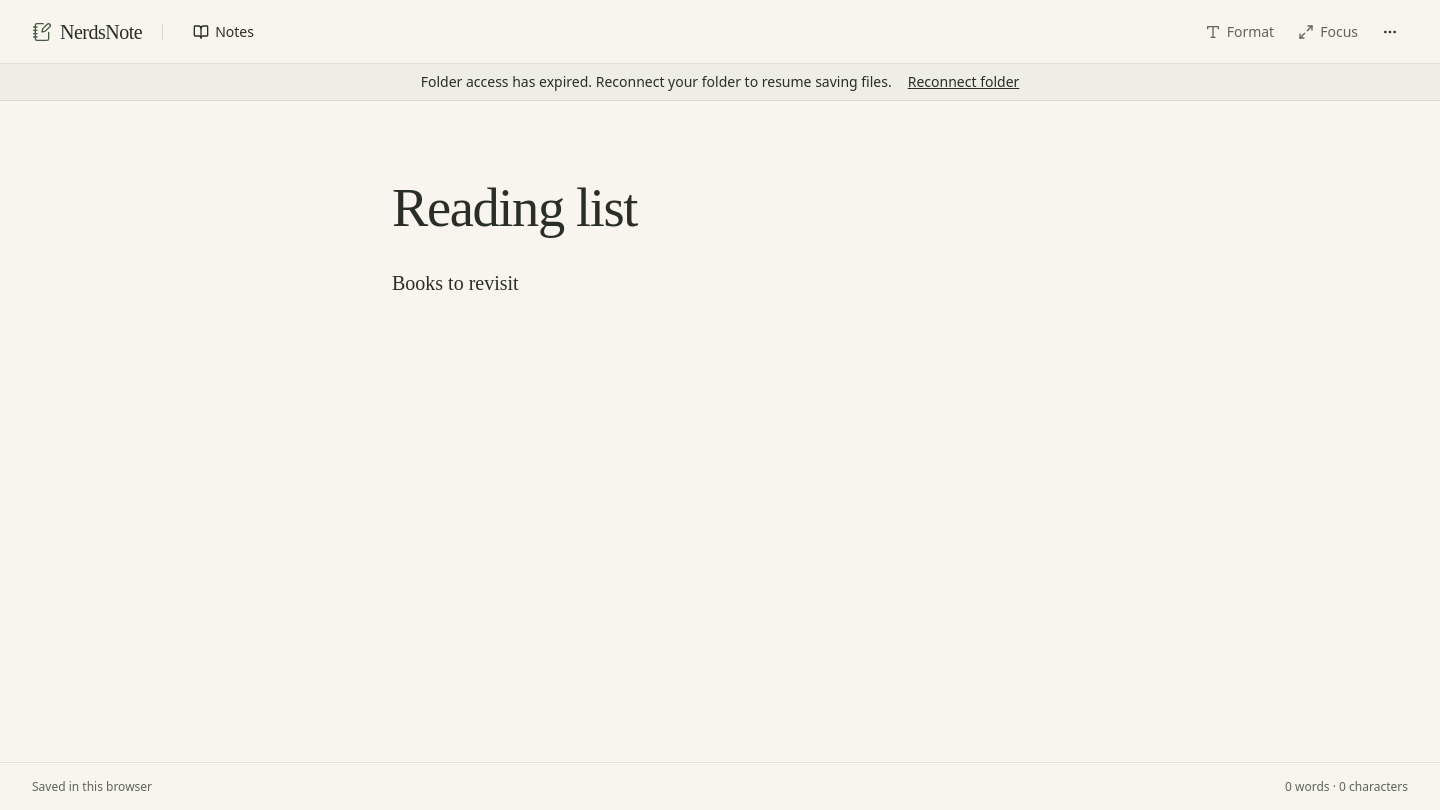
notebook persistence › reconnects without rewriting matching files (copy missing notes: false)
Click the button "Reconnect folder" at (964, 82), box [908,72,1019,92]
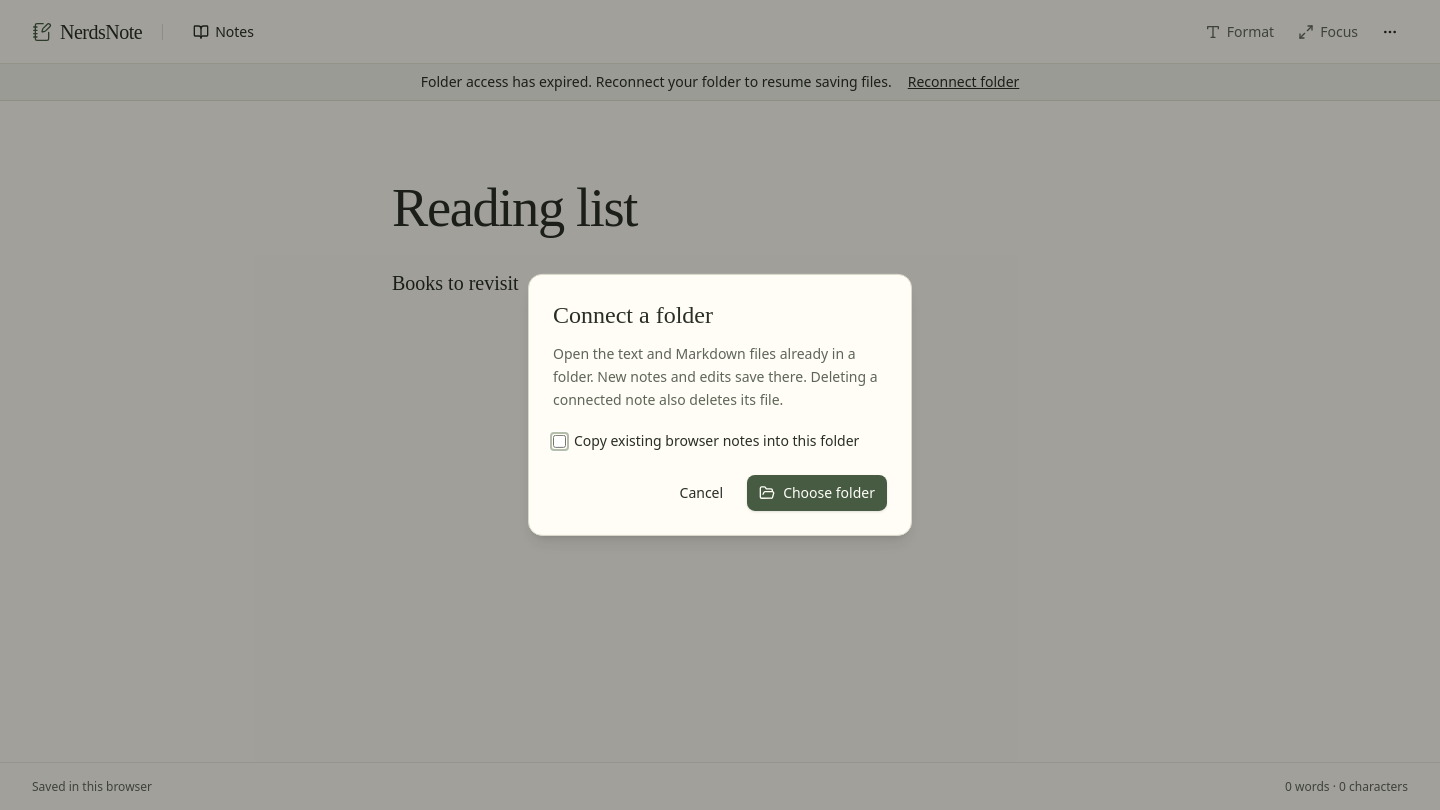
Expected: the checkbox labelled "Copy existing browser notes into this folder" is not checked, [553,435,566,448]
Click the button "Choose folder" at (817, 493), box [747,475,887,511]
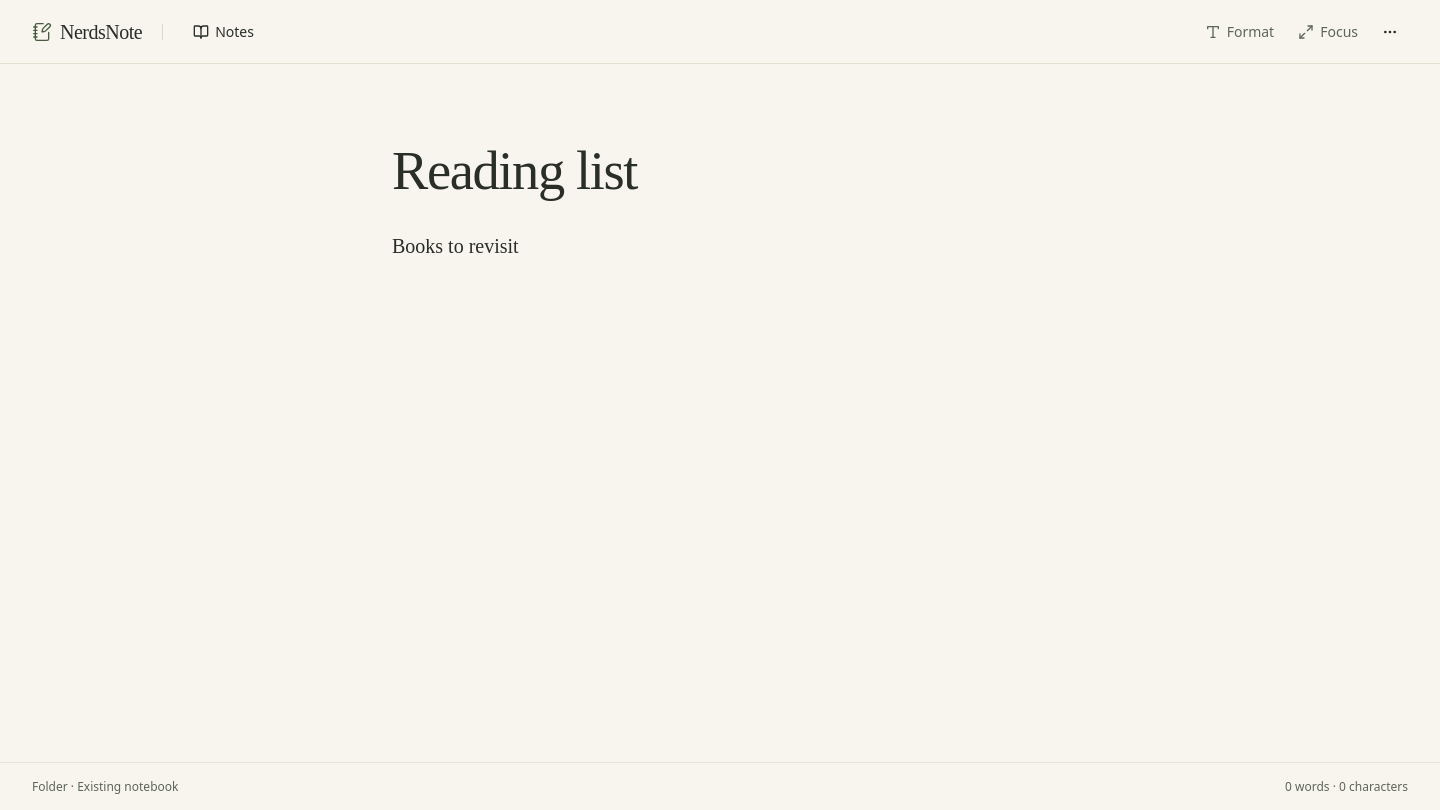
Expected: the text "Folder · Existing notebook" is shown, [32,778,178,794]
